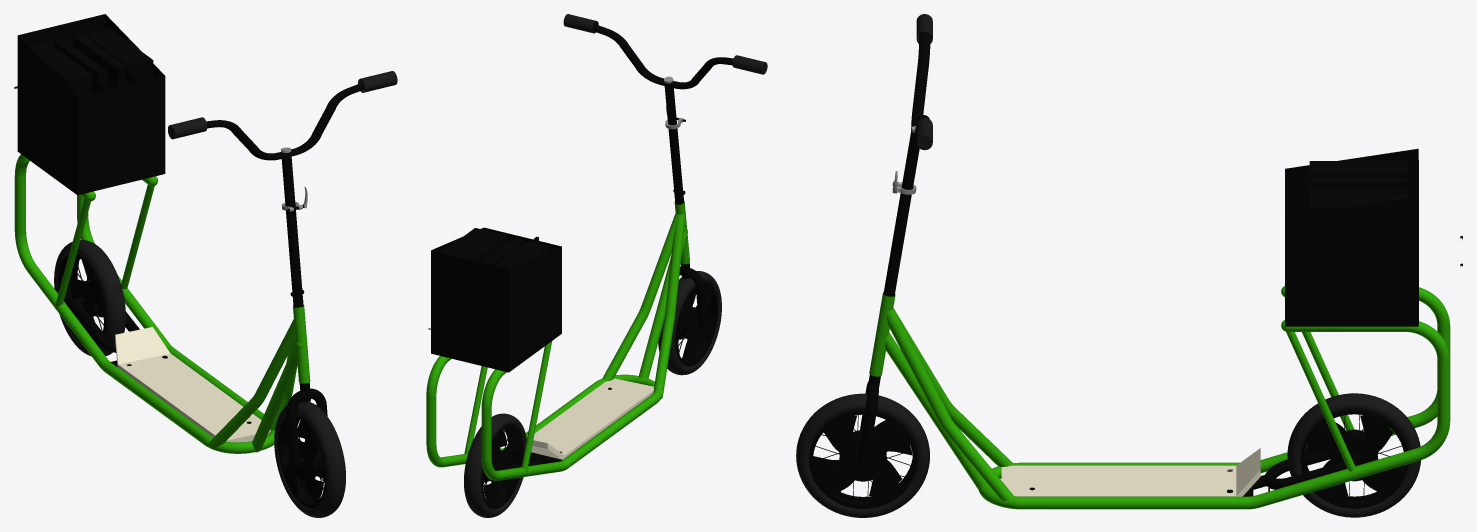
File: monopatin.glb
The picture shows the model from 3 angles, left to right: view 1: azimuth 30°, elevation 25°; view 2: azimuth 150°, elevation 25°; view 3: azimuth 270°, elevation 25°; orthographic projection. The views are drawn at different scales.
Visible parts, largest first — view 1: canasto 02(DC8E0DAC-3601-4E8E-AF41-A33BBE19D286), Caño piso(53D92BB5-5568-4F09-BDE5-86A547CAFA3C), canasto 02(C7667430-6E14-4C58-B536-712C22CA9FBF), Madera(51FF40A1-7FE8-4DAF-99E7-E073570E7195), Neumatico(392995F6-B7C0-4BD5-A76E-18BDFFB13D74), Neumatico(9622B8B9-F1C0-4260-9E43-A71CB24A2E97), caños al piso(76C39BE6-F131-4197-8D24-089561843D22), Manubrio(D074D4E7-F346-4703-A52B-361859D7711C), solid bisiklet_teker_2(6A61E54E-2066-477C-9C7A-D35DD4714ED5), Madera(CDB0EF7A-0A6D-41FD-942E-D08FF1A19FC6), canasto 02(00539C52-2F5F-4FFE-946E-5E2899C679C7), Tapa rueda(D2132B94-834E-4D97-9F4F-C3FC30E82D07) (+20 smaller); view 2: canasto 02(59FA91A8-8B42-4C29-9A3E-AD668DAE1BD7), Caño piso(53D92BB5-5568-4F09-BDE5-86A547CAFA3C), canasto 02(C7667430-6E14-4C58-B536-712C22CA9FBF), Madera(51FF40A1-7FE8-4DAF-99E7-E073570E7195), Neumatico(9622B8B9-F1C0-4260-9E43-A71CB24A2E97), caños al piso(76C39BE6-F131-4197-8D24-089561843D22), caños al piso(8551D2A1-9D66-4C7E-A7B6-29652B2CB30B), Neumatico(392995F6-B7C0-4BD5-A76E-18BDFFB13D74), canasto 02(00539C52-2F5F-4FFE-946E-5E2899C679C7), Manubrio(D074D4E7-F346-4703-A52B-361859D7711C), solid bisiklet_teker_2(6A61E54E-2066-477C-9C7A-D35DD4714ED5), solid bisiklet_teker_2(1AD66774-3DFA-4869-9510-AFF25419F491) (+11 smaller); view 3: canasto 02(B17DF535-C1C6-4DBD-8CEB-629AB1D86867), Caño piso(53D92BB5-5568-4F09-BDE5-86A547CAFA3C), Madera(51FF40A1-7FE8-4DAF-99E7-E073570E7195), Neumatico(392995F6-B7C0-4BD5-A76E-18BDFFB13D74), Neumatico(9622B8B9-F1C0-4260-9E43-A71CB24A2E97), Tapa rueda(C7F353C1-8AE1-4E89-A72B-E6117EDD8A3A), caños al piso(8551D2A1-9D66-4C7E-A7B6-29652B2CB30B), Tapa rueda(00CF37A3-155B-4683-823E-19B29A9B4597), solid bisiklet_teker_2(6A61E54E-2066-477C-9C7A-D35DD4714ED5), solid bisiklet_teker_2(1AD66774-3DFA-4869-9510-AFF25419F491), caños al piso(76C39BE6-F131-4197-8D24-089561843D22), caños al piso(E42A55DF-E1D8-46FC-837A-DE3EA991FA6A) (+11 smaller).
Part boxes in pixels (left/top/right/bottom): canasto 02(DC8E0DAC-3601-4E8E-AF41-A33BBE19D286): left=78, top=75, right=164, bottom=194; Caño piso(53D92BB5-5568-4F09-BDE5-86A547CAFA3C): left=14, top=154, right=274, bottom=453; canasto 02(C7667430-6E14-4C58-B536-712C22CA9FBF): left=17, top=35, right=78, bottom=194; Madera(51FF40A1-7FE8-4DAF-99E7-E073570E7195): left=118, top=353, right=270, bottom=442; Neumatico(392995F6-B7C0-4BD5-A76E-18BDFFB13D74): left=274, top=402, right=345, bottom=517; Neumatico(9622B8B9-F1C0-4260-9E43-A71CB24A2E97): left=54, top=240, right=125, bottom=355; caños al piso(76C39BE6-F131-4197-8D24-089561843D22): left=209, top=319, right=301, bottom=449; Manubrio(D074D4E7-F346-4703-A52B-361859D7711C): left=206, top=82, right=364, bottom=160; solid bisiklet_teker_2(6A61E54E-2066-477C-9C7A-D35DD4714ED5): left=278, top=414, right=326, bottom=508; Madera(CDB0EF7A-0A6D-41FD-942E-D08FF1A19FC6): left=115, top=327, right=170, bottom=367; canasto 02(00539C52-2F5F-4FFE-946E-5E2899C679C7): left=18, top=14, right=105, bottom=47; Tapa rueda(D2132B94-834E-4D97-9F4F-C3FC30E82D07): left=279, top=420, right=323, bottom=503; canasto 02(59FA91A8-8B42-4C29-9A3E-AD668DAE1BD7): left=434, top=259, right=505, bottom=370; Caño piso(53D92BB5-5568-4F09-BDE5-86A547CAFA3C): left=426, top=356, right=661, bottom=480; canasto 02(C7667430-6E14-4C58-B536-712C22CA9FBF): left=508, top=246, right=561, bottom=371; Madera(51FF40A1-7FE8-4DAF-99E7-E073570E7195): left=533, top=378, right=653, bottom=457; Neumatico(9622B8B9-F1C0-4260-9E43-A71CB24A2E97): left=464, top=413, right=526, bottom=517; caños al piso(76C39BE6-F131-4197-8D24-089561843D22): left=653, top=213, right=685, bottom=398; caños al piso(8551D2A1-9D66-4C7E-A7B6-29652B2CB30B): left=602, top=212, right=685, bottom=381; Neumatico(392995F6-B7C0-4BD5-A76E-18BDFFB13D74): left=658, top=271, right=721, bottom=375; canasto 02(00539C52-2F5F-4FFE-946E-5E2899C679C7): left=431, top=250, right=508, bottom=371; Manubrio(D074D4E7-F346-4703-A52B-361859D7711C): left=592, top=24, right=733, bottom=89; solid bisiklet_teker_2(6A61E54E-2066-477C-9C7A-D35DD4714ED5): left=675, top=282, right=718, bottom=366; solid bisiklet_teker_2(1AD66774-3DFA-4869-9510-AFF25419F491): left=481, top=425, right=523, bottom=509; canasto 02(B17DF535-C1C6-4DBD-8CEB-629AB1D86867): left=1285, top=196, right=1418, bottom=325; Caño piso(53D92BB5-5568-4F09-BDE5-86A547CAFA3C): left=978, top=286, right=1450, bottom=509; Madera(51FF40A1-7FE8-4DAF-99E7-E073570E7195): left=1001, top=465, right=1236, bottom=496; Neumatico(392995F6-B7C0-4BD5-A76E-18BDFFB13D74): left=796, top=393, right=929, bottom=517; Neumatico(9622B8B9-F1C0-4260-9E43-A71CB24A2E97): left=1287, top=393, right=1421, bottom=517; Tapa rueda(C7F353C1-8AE1-4E89-A72B-E6117EDD8A3A): left=813, top=415, right=912, bottom=505; caños al piso(8551D2A1-9D66-4C7E-A7B6-29652B2CB30B): left=886, top=308, right=1013, bottom=500; Tapa rueda(00CF37A3-155B-4683-823E-19B29A9B4597): left=1304, top=415, right=1403, bottom=505; solid bisiklet_teker_2(6A61E54E-2066-477C-9C7A-D35DD4714ED5): left=809, top=411, right=917, bottom=508; solid bisiklet_teker_2(1AD66774-3DFA-4869-9510-AFF25419F491): left=1300, top=410, right=1408, bottom=508; caños al piso(76C39BE6-F131-4197-8D24-089561843D22): left=893, top=308, right=1013, bottom=466; caños al piso(E42A55DF-E1D8-46FC-837A-DE3EA991FA6A): left=884, top=332, right=985, bottom=489.
Bounding box in the file's own units: 0.6438 × 1.09 × 1.49.
